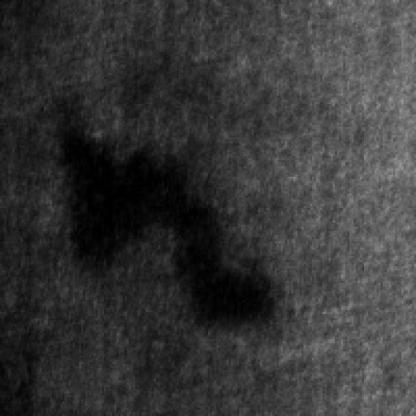patches: (54, 108, 272, 325)
